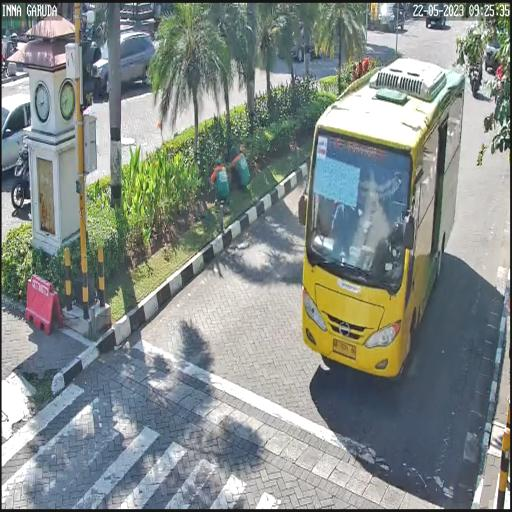mobil: (300, 53, 470, 389)
